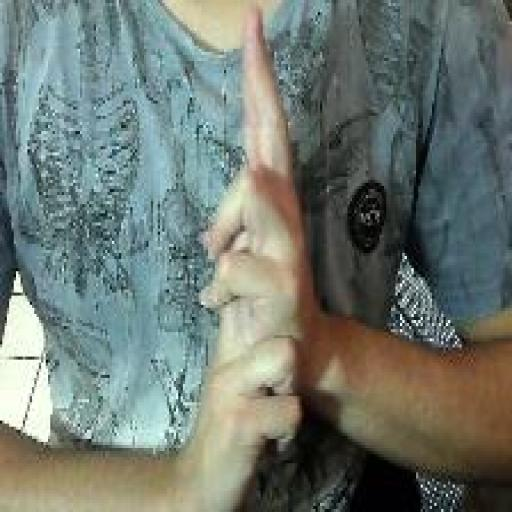Hitsuji -ram-: (196, 3, 308, 509)
